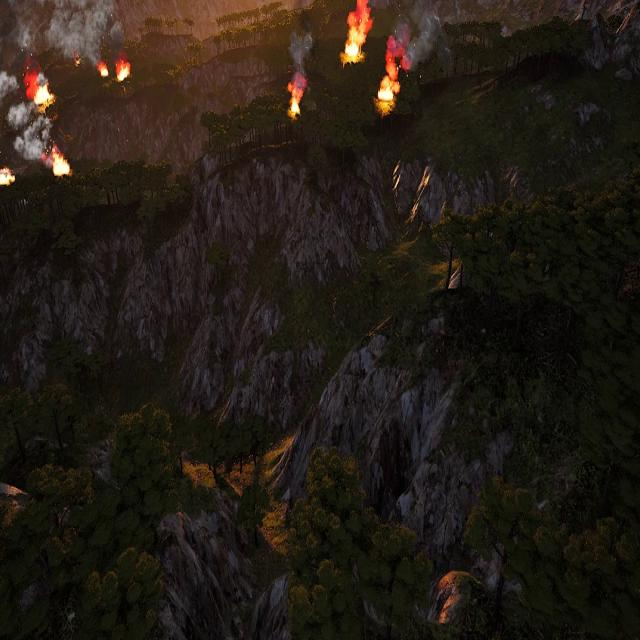fire: (342, 0, 373, 63), (377, 46, 404, 108), (49, 145, 72, 176), (287, 81, 303, 119), (33, 82, 53, 108), (115, 56, 131, 84), (0, 166, 16, 188), (100, 63, 112, 79), (74, 56, 82, 67)
smoke: (12, 0, 124, 63), (0, 69, 52, 163), (386, 2, 440, 82), (288, 30, 312, 90)
